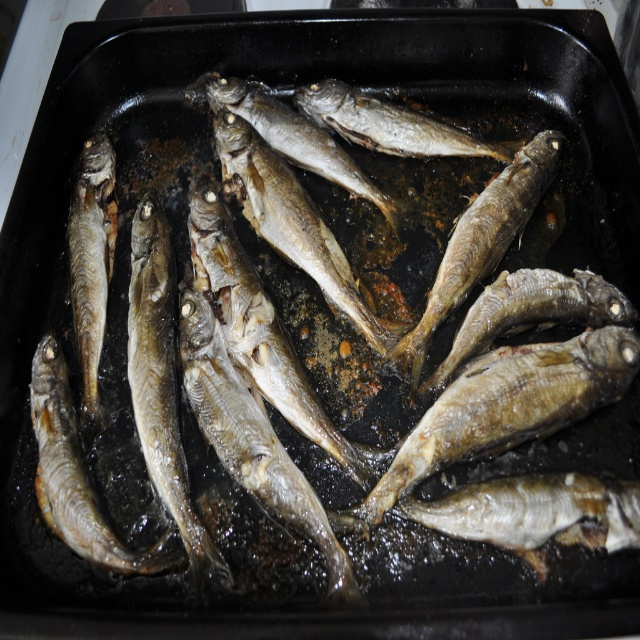Fish: (28, 71, 640, 617)
